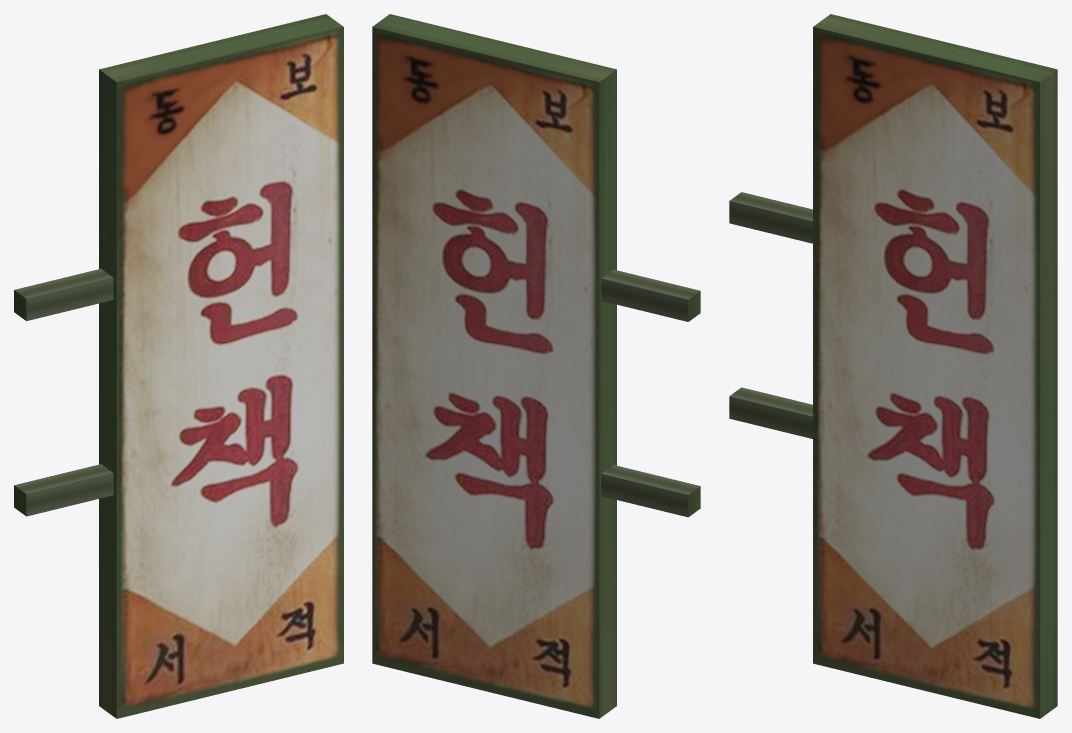
The model's file is seojeom.FBX.
The picture shows the model from 3 angles, left to right: view 1: azimuth 30°, elevation 25°; view 2: azimuth 150°, elevation 25°; view 3: azimuth 330°, elevation 25°; orthographic projection.
Parts seen in each view (by area): view 1: Box002; view 2: Box002; view 3: Box002.
Part boxes in pixels (left/top/right/bottom): Box002: left=14, top=14, right=343, bottom=718; Box002: left=372, top=14, right=700, bottom=718; Box002: left=729, top=14, right=1057, bottom=718.
Size of the model in its own units: 31.65 by 61.3 by 3.07.
